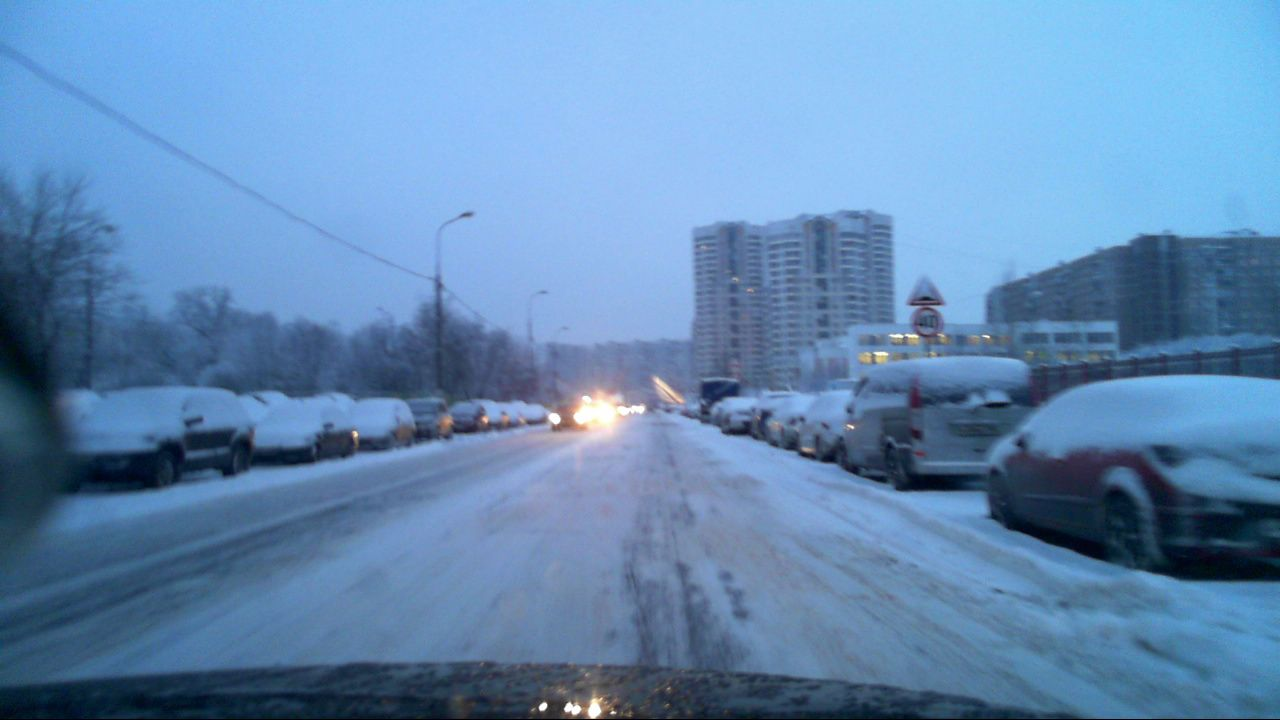speed_warning_40: (912, 308, 943, 336)
